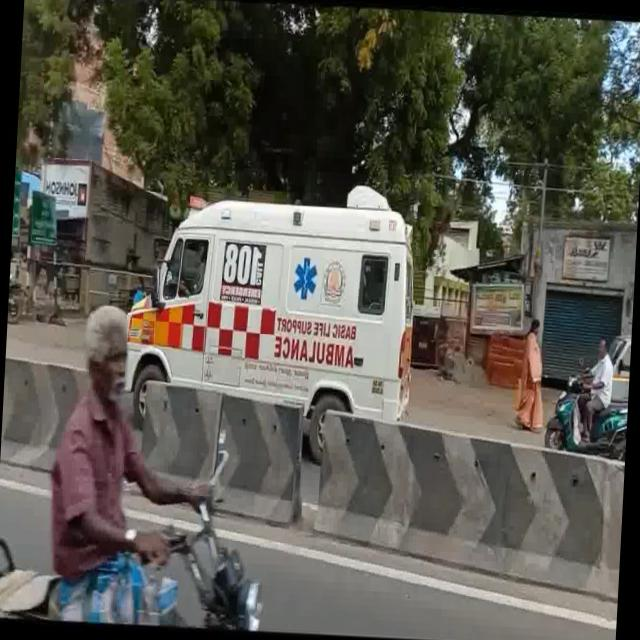ambulance: (124, 178, 424, 390)
